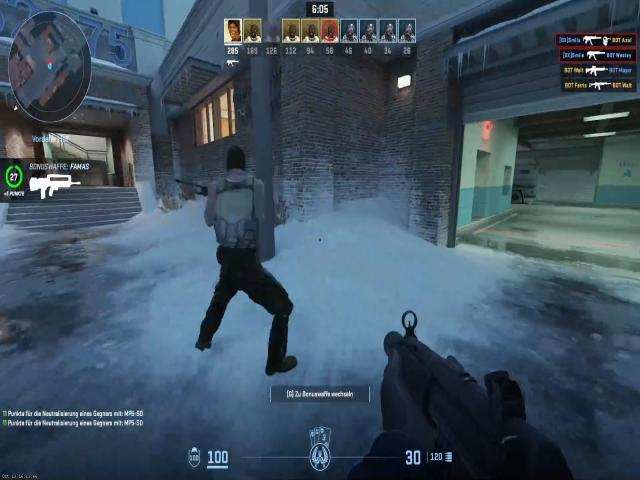T: (201, 145, 273, 286)
T-Head: (216, 145, 250, 180)
